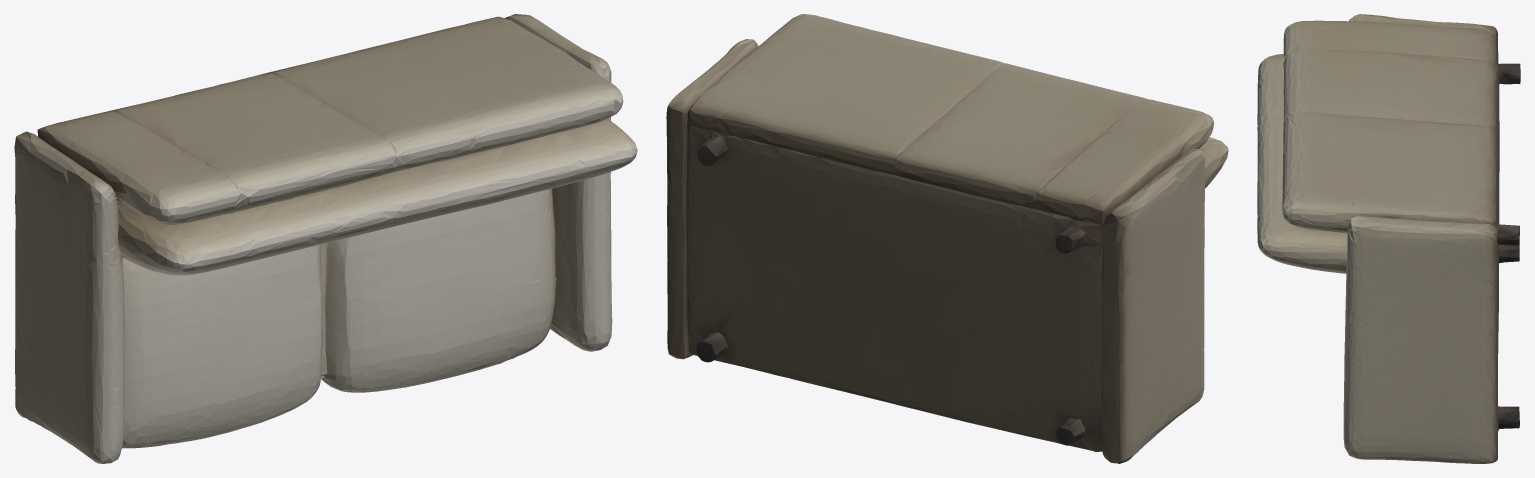
The model's file is sofa_8.glb.
3 renders of one model, left to right at view 1: azimuth 30°, elevation 25°; view 2: azimuth 150°, elevation 25°; view 3: azimuth 270°, elevation 25°, orthographic. The views are drawn at different scales.
Parts seen in each view (by area): view 1: geometry_0; view 2: geometry_0; view 3: geometry_0.
Boxes of the visible parts, <box> form: geometry_0: <box>14,14,637,463</box>; geometry_0: <box>666,14,1228,463</box>; geometry_0: <box>1257,14,1520,463</box>.
Size of the model in its own units: 1.76 by 1 by 0.9282.
